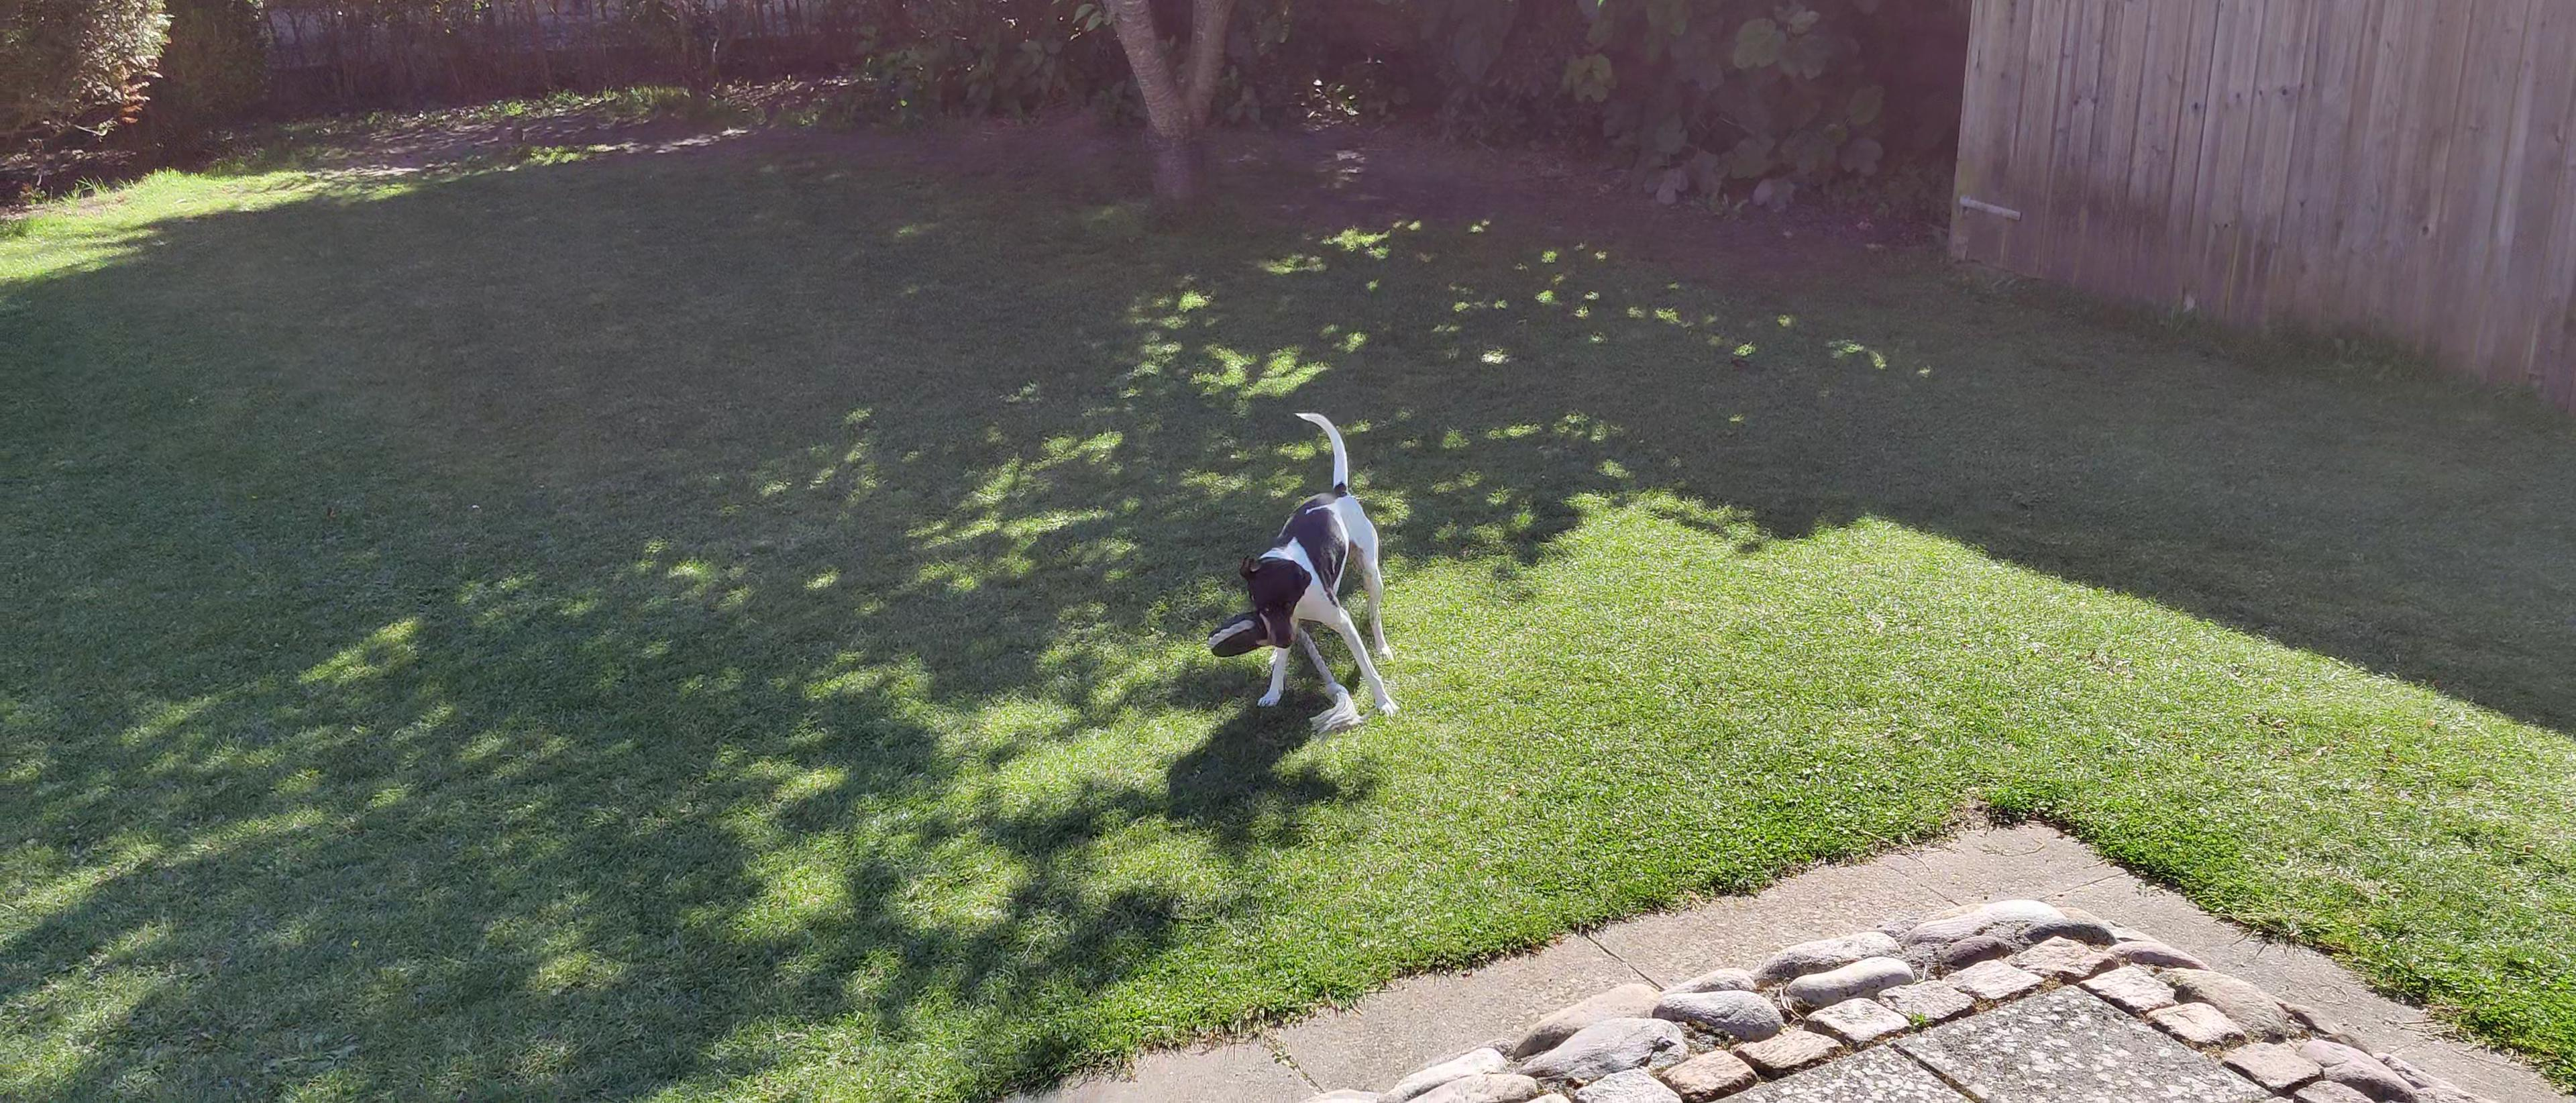Dog: (1237, 406, 1403, 717)
